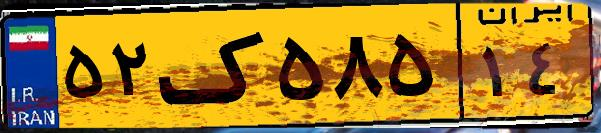1: (475, 38, 525, 113)
2: (110, 28, 158, 98)
4: (525, 38, 570, 115)
5: (270, 28, 330, 110), (385, 28, 445, 110), (57, 26, 110, 100)
8: (330, 28, 385, 110)
ک: (158, 12, 270, 120)
